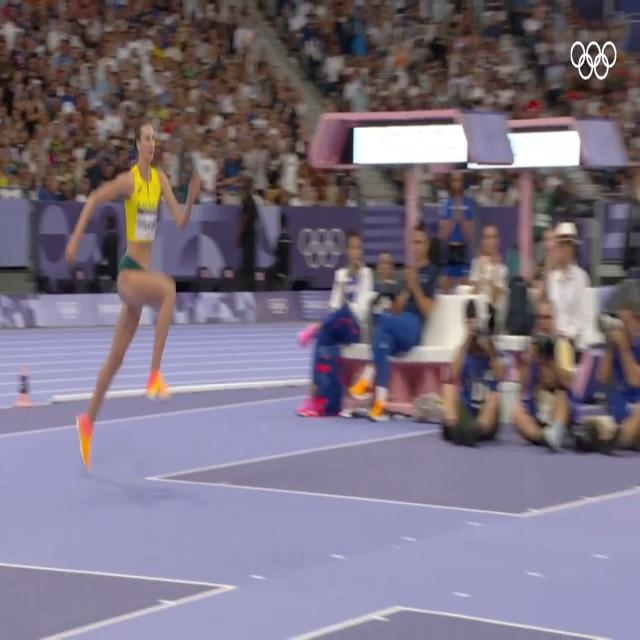run: (65, 115, 199, 471)
